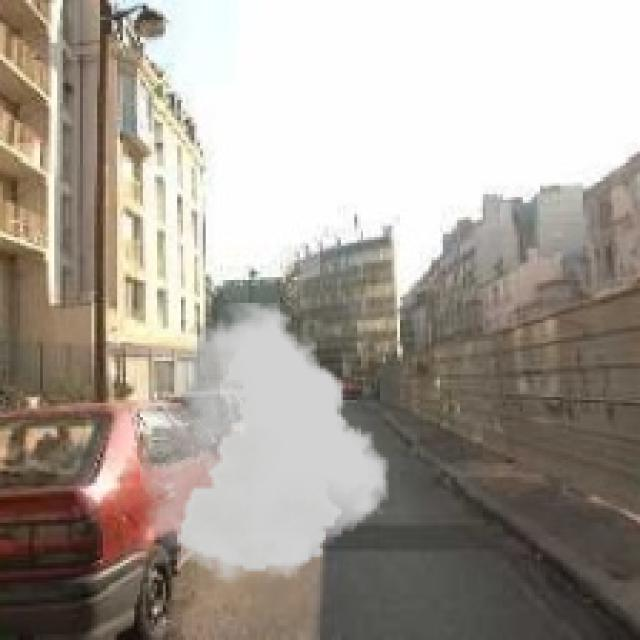smoke: (140, 303, 389, 583)
